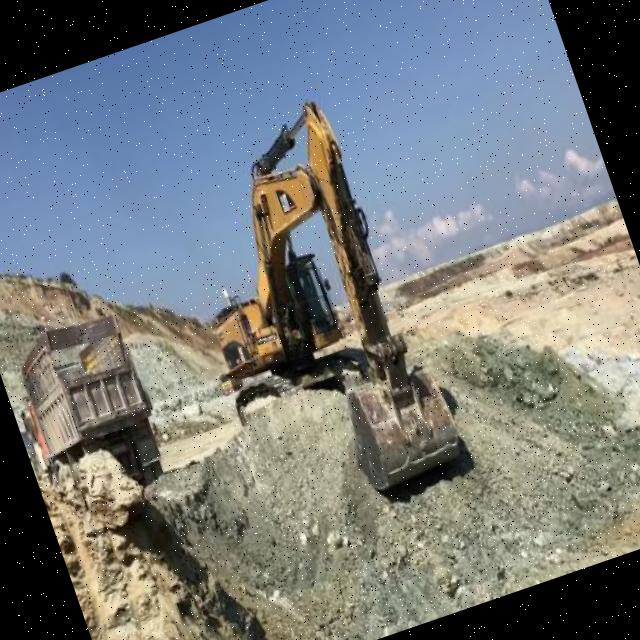Dump Truck: (2, 304, 178, 516)
Excavator: (140, 84, 470, 533)
